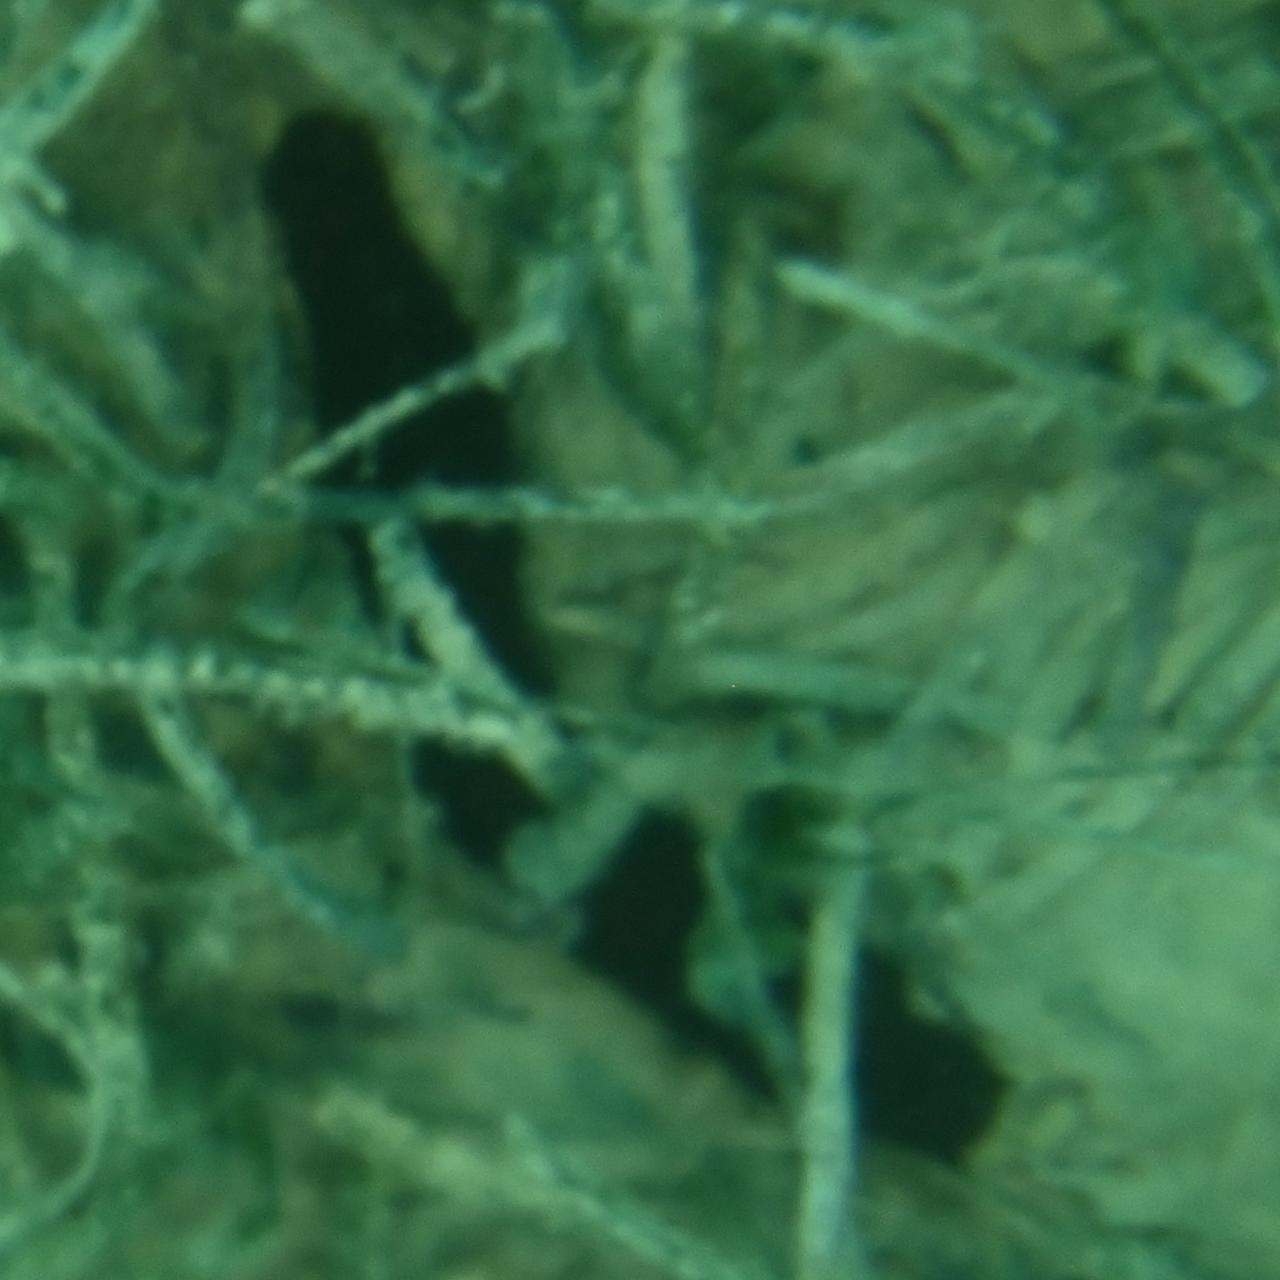Holothuria tubulosa: (260, 92, 1020, 1188)
